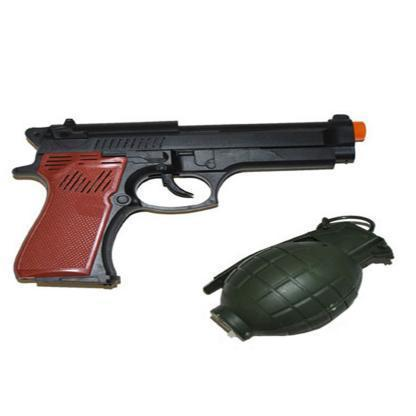Grenade: (203, 213, 398, 342)
Pistol: (12, 112, 369, 290)
